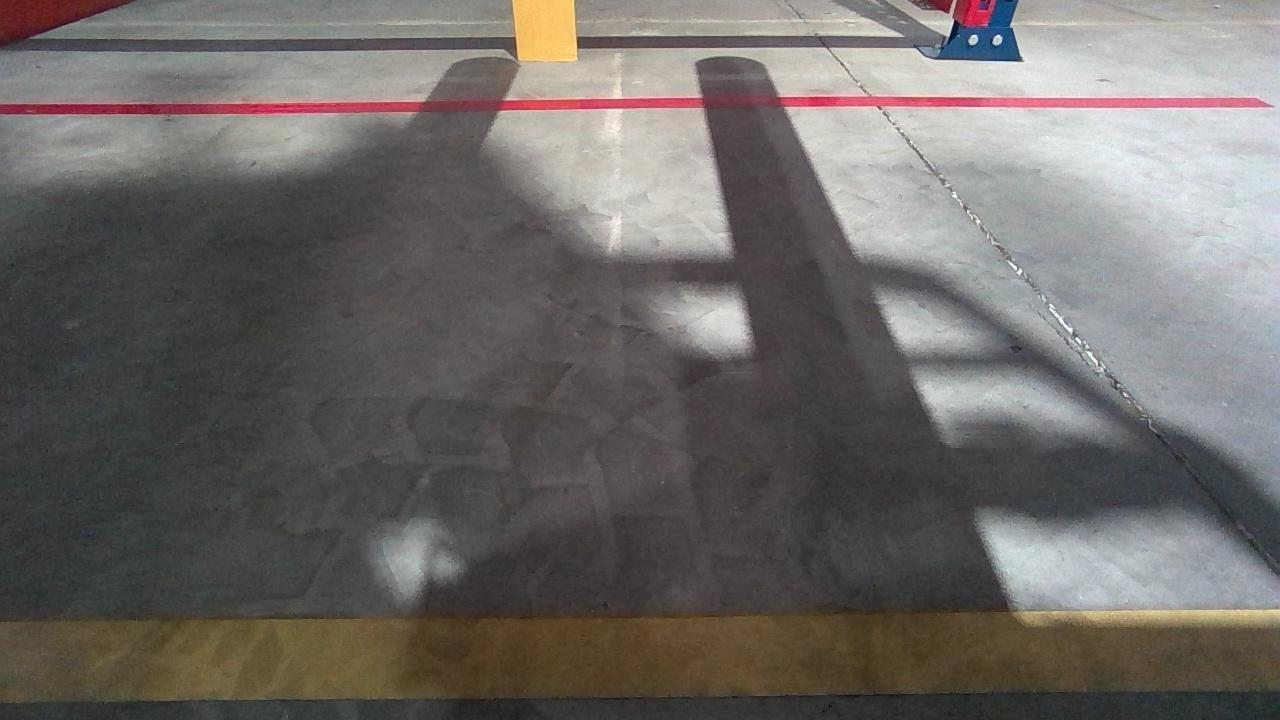red_line: (19, 91, 1270, 115)
yellow_line: (0, 609, 1280, 699)
